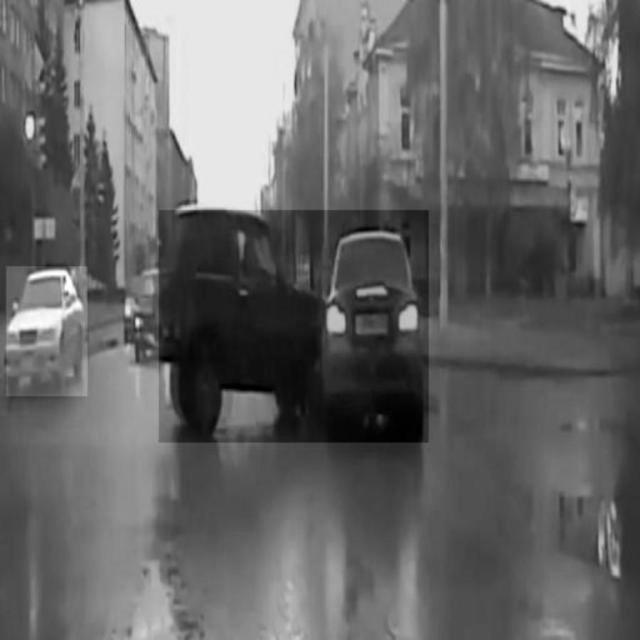accident: (159, 211, 429, 443)
vehicle: (7, 267, 88, 397)
